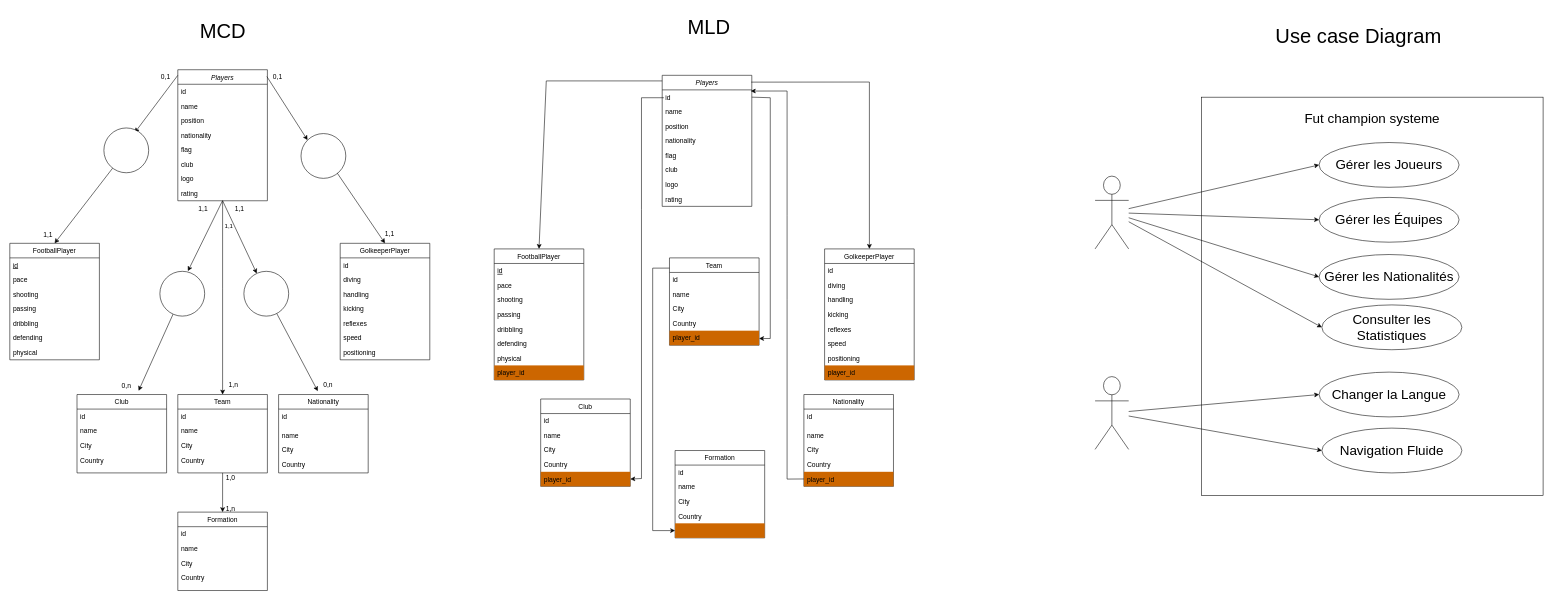
The diagram is 1553 pixels wide and 600 high, and some of its shapes have lost their labels. The box of each missing label's shape, as (x1, y1, x2, y2) in pixels:
Admin: (1095, 176, 1129, 249)
team_id: (675, 523, 764, 538)
User: (1095, 376, 1129, 449)
